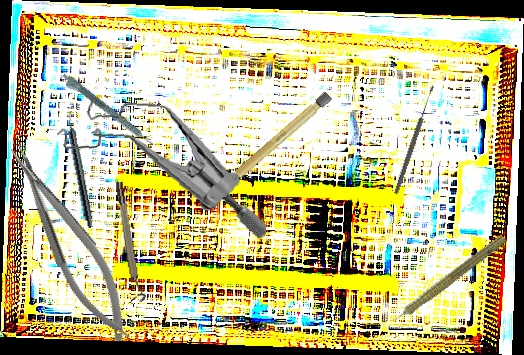Fixation Ring: (113, 180, 147, 304)
Handpiece: (380, 229, 509, 333), (57, 71, 156, 152), (63, 110, 97, 229)
Needle Holder: (1, 134, 141, 351)
Scalpel Handle: (218, 91, 333, 192)
Speculum: (49, 89, 277, 243)
Surgical Spoon: (392, 84, 437, 196)
